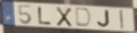5: (17, 4, 33, 25)
D: (75, 7, 93, 29)
I: (119, 9, 125, 30)
J: (96, 10, 111, 29)
L: (37, 6, 53, 26)
X: (55, 6, 73, 28)
